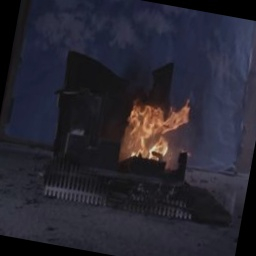fire: (111, 84, 202, 179)
